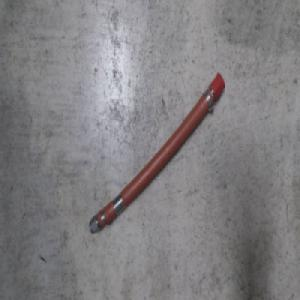Hose: (88, 72, 227, 237)
